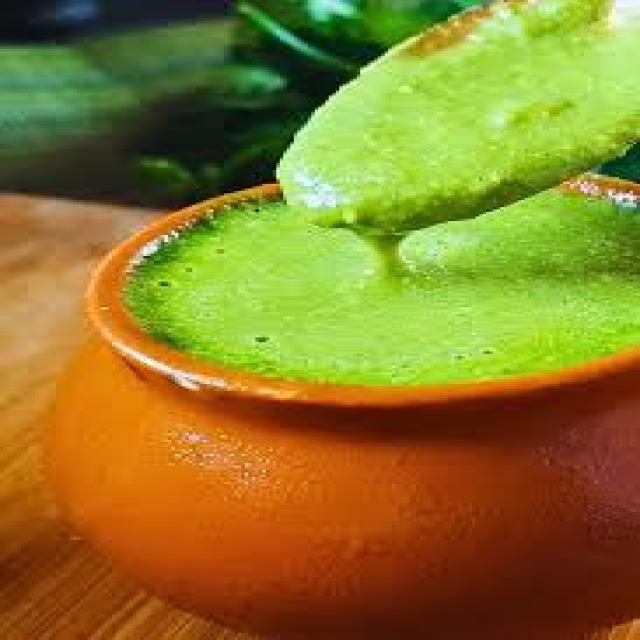GREEN CHUTNEY: (87, 0, 637, 405)
